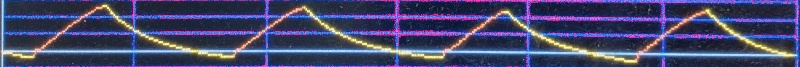normal_volume: (7, 0, 800, 65)
